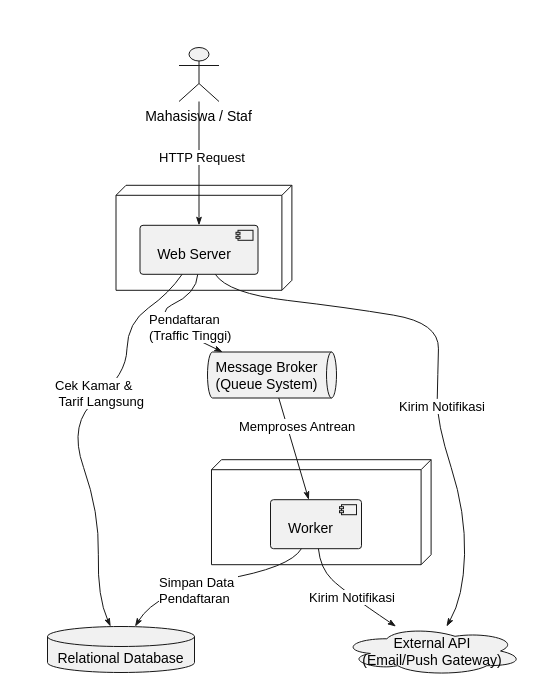
Image size: 541x693. Some labels were removed from this diagram. Here are the shapes that lost their labels. From the top down, the box of each, then its label:
(115, 184, 292, 290): Aplikasi Utama
(210, 459, 431, 565): Background Process
